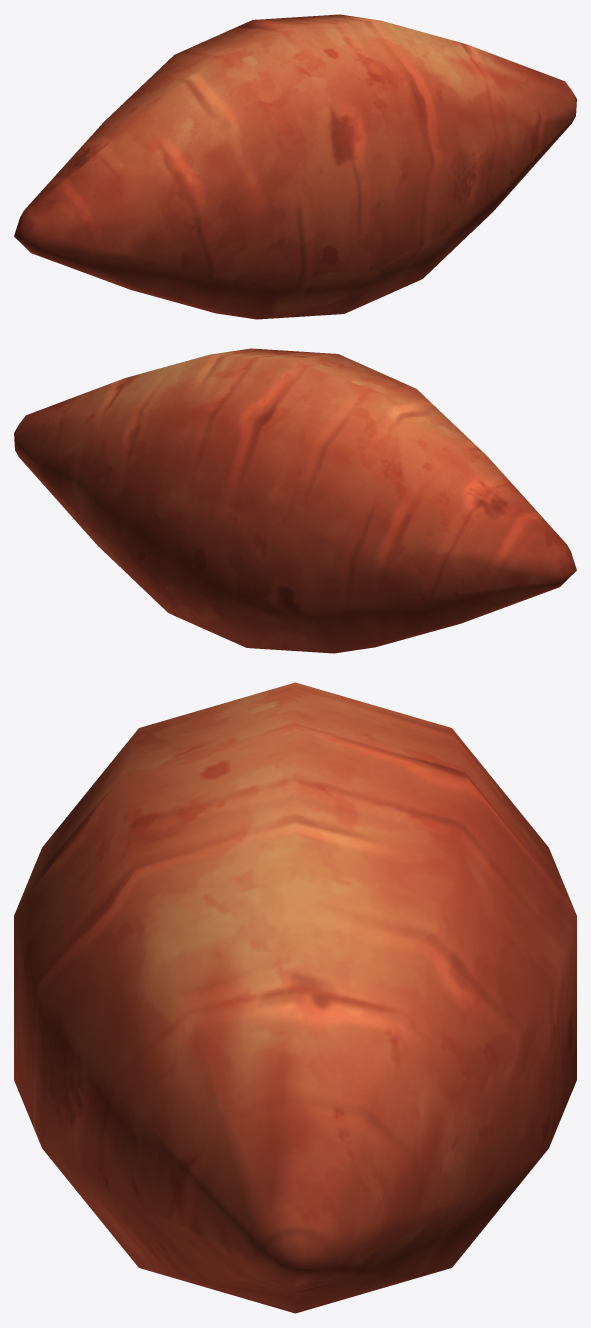
Rendered from Potato_Sweet.fbx.
3 views of the same model, one above another, from view 1: azimuth 30°, elevation 25°; view 2: azimuth 150°, elevation 25°; view 3: azimuth 270°, elevation 25° (orthographic). The views are drawn at different scales.
Parts seen in each view (by area): view 1: Potato_Sweet; view 2: Potato_Sweet; view 3: Potato_Sweet.
Boxes of the visible parts, bbox=[...] form: Potato_Sweet: bbox=[14, 14, 576, 319]; Potato_Sweet: bbox=[14, 348, 576, 653]; Potato_Sweet: bbox=[14, 682, 576, 1313].
Bounding box in the file's own units: 87.78 × 41.76 × 40.13.
